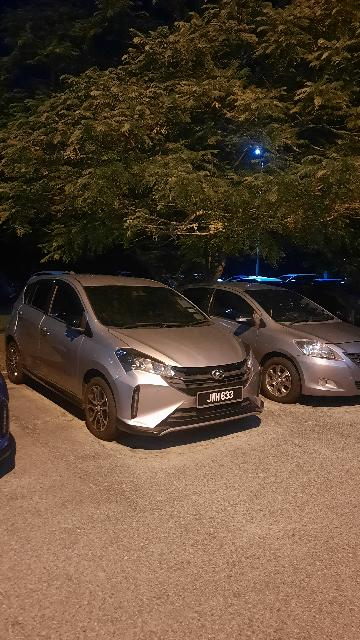License_Plate: (195, 386, 247, 408)
car: (10, 273, 268, 448)
